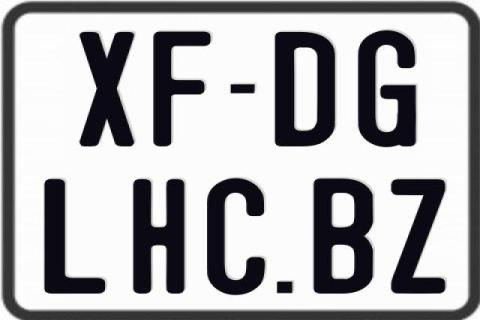B: (311, 178, 375, 298)
C: (207, 178, 267, 294)
D: (272, 30, 337, 146)
F: (152, 29, 214, 147)
G: (356, 28, 419, 145)
H: (132, 177, 183, 293)
L: (43, 179, 110, 297)
X: (80, 31, 134, 149)
Z: (388, 177, 444, 292)
